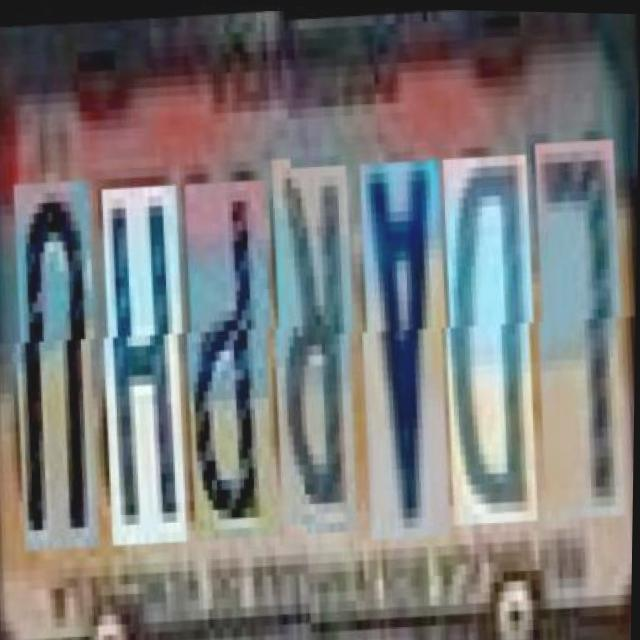a: (357, 143, 457, 525)
d: (440, 140, 545, 511)
h: (100, 175, 195, 537)
l: (532, 125, 633, 507)
p: (182, 171, 283, 533)
r: (270, 148, 365, 518)
u: (12, 170, 108, 542)
